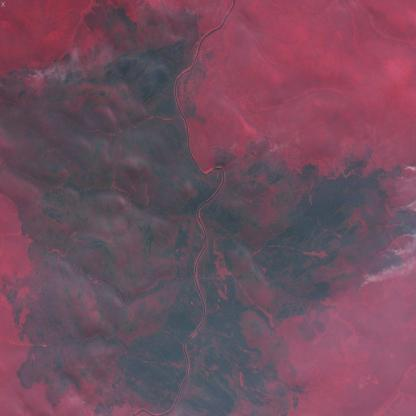fire: (353, 151, 416, 300), (0, 54, 78, 107), (201, 135, 284, 182), (178, 1, 198, 28)
